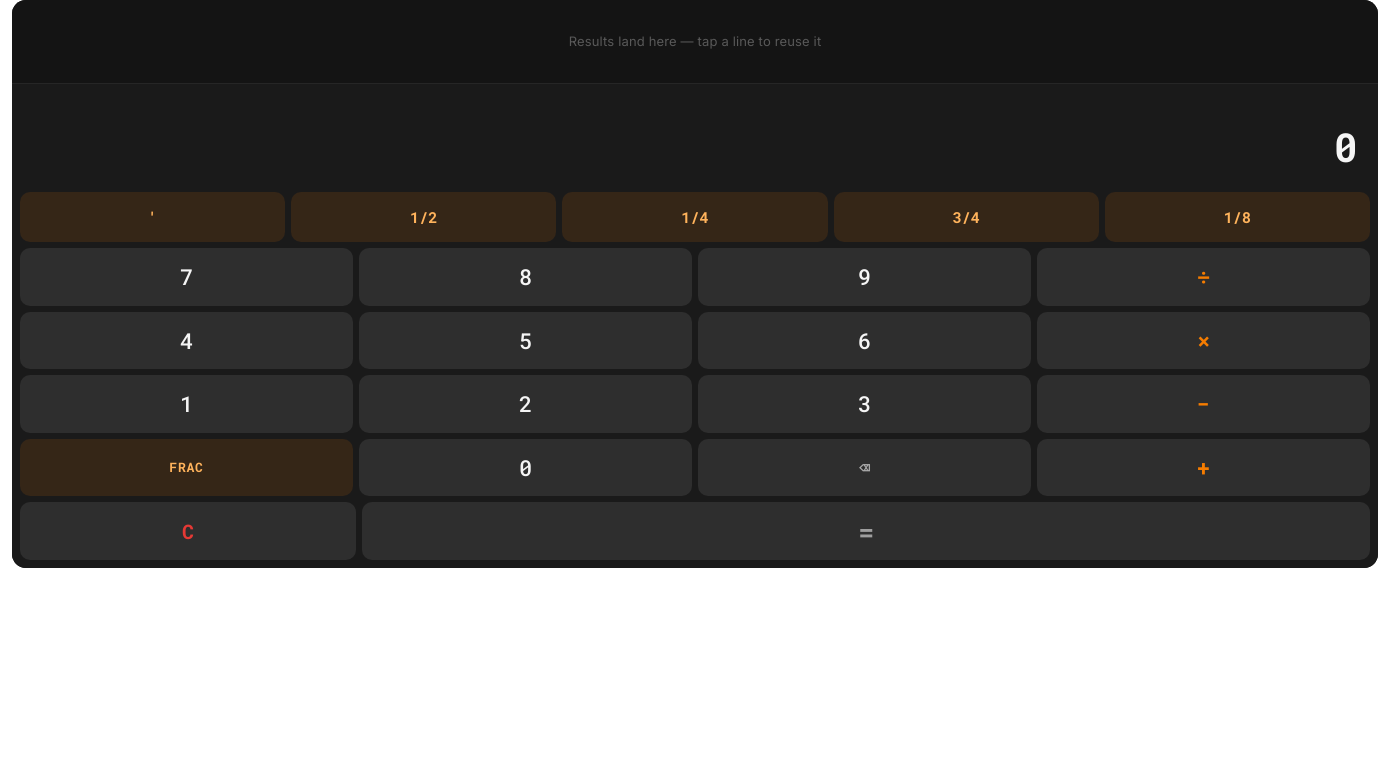
Test: TapeCalc UI › clear button resets everything
Click the button "5": (526, 340) [359, 312, 692, 369]
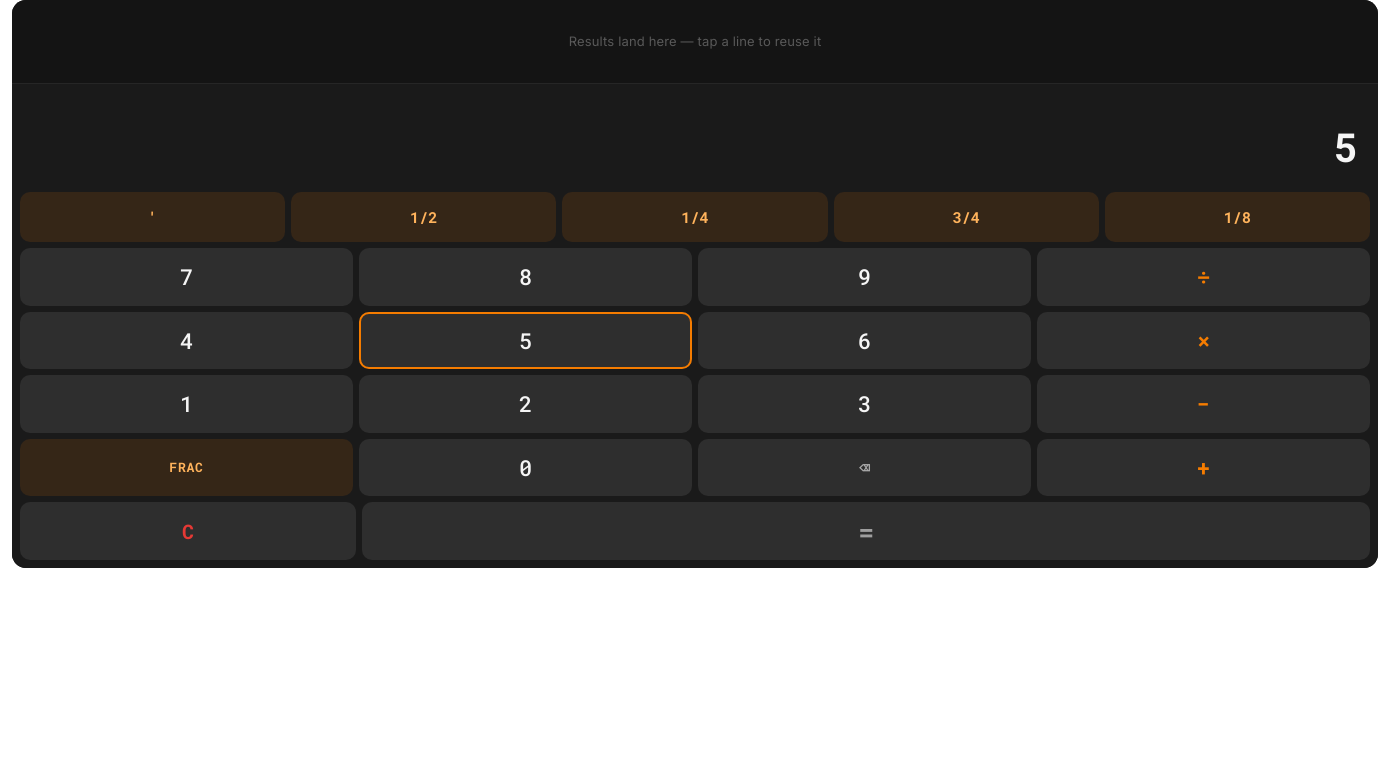
Click the button named "add": (1204, 468) [1037, 439, 1370, 496]
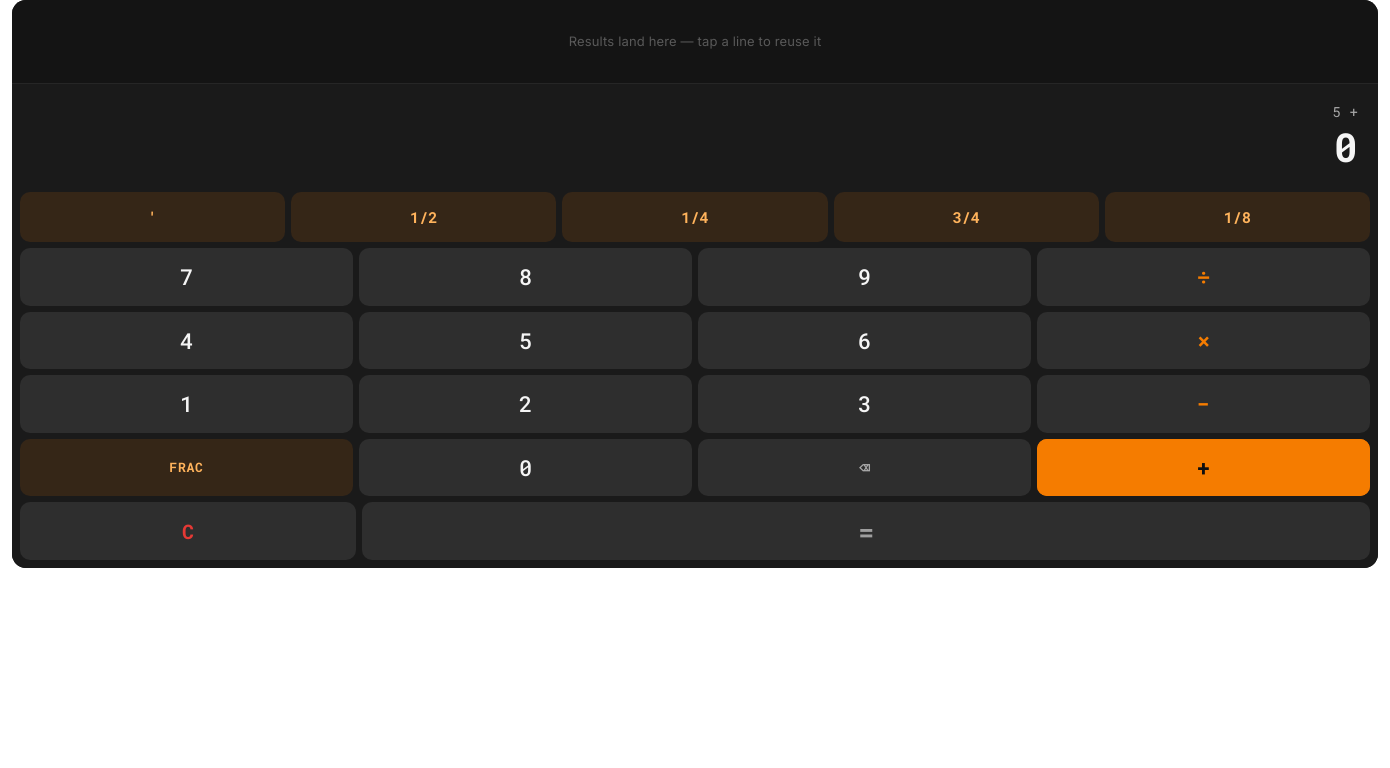
Click the button "3": (864, 404) [698, 375, 1031, 433]
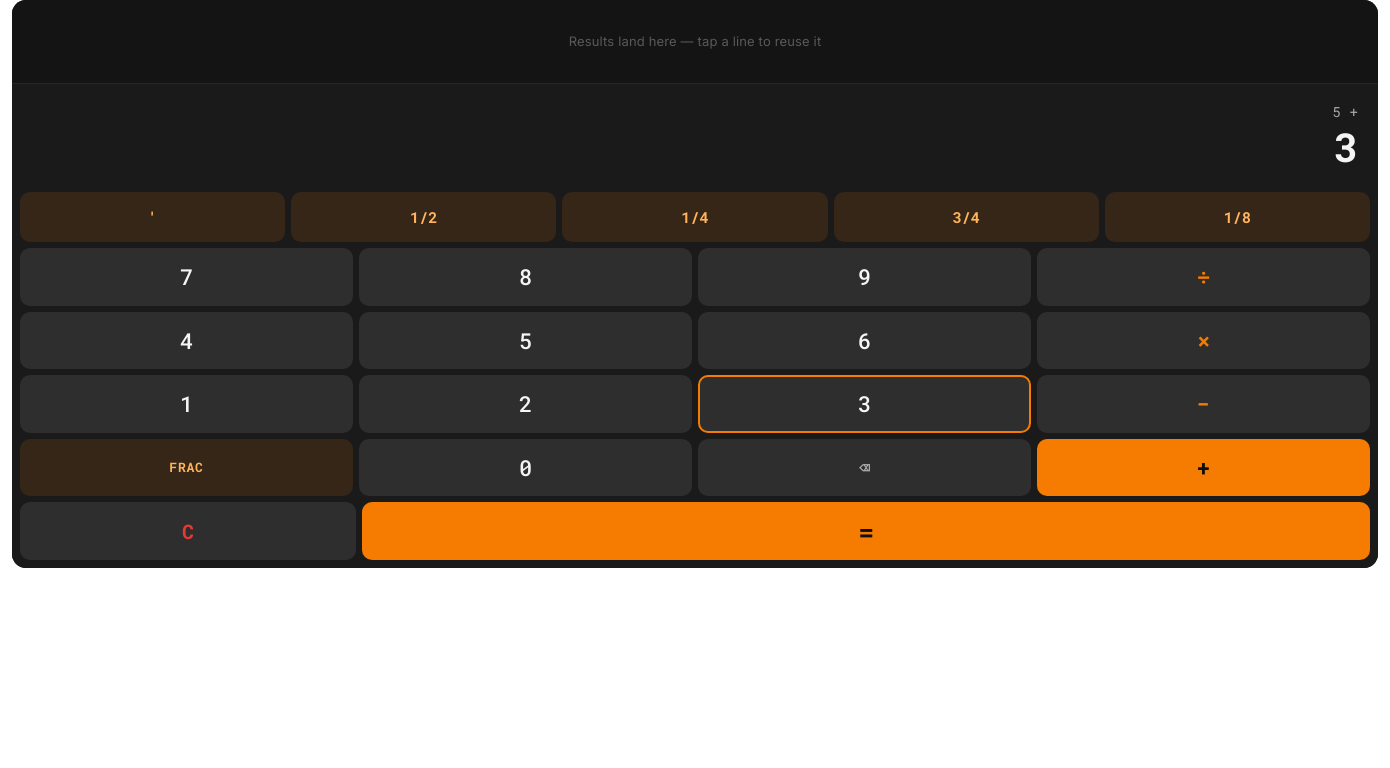
Click the button named "calculate": (866, 531) [362, 502, 1370, 560]
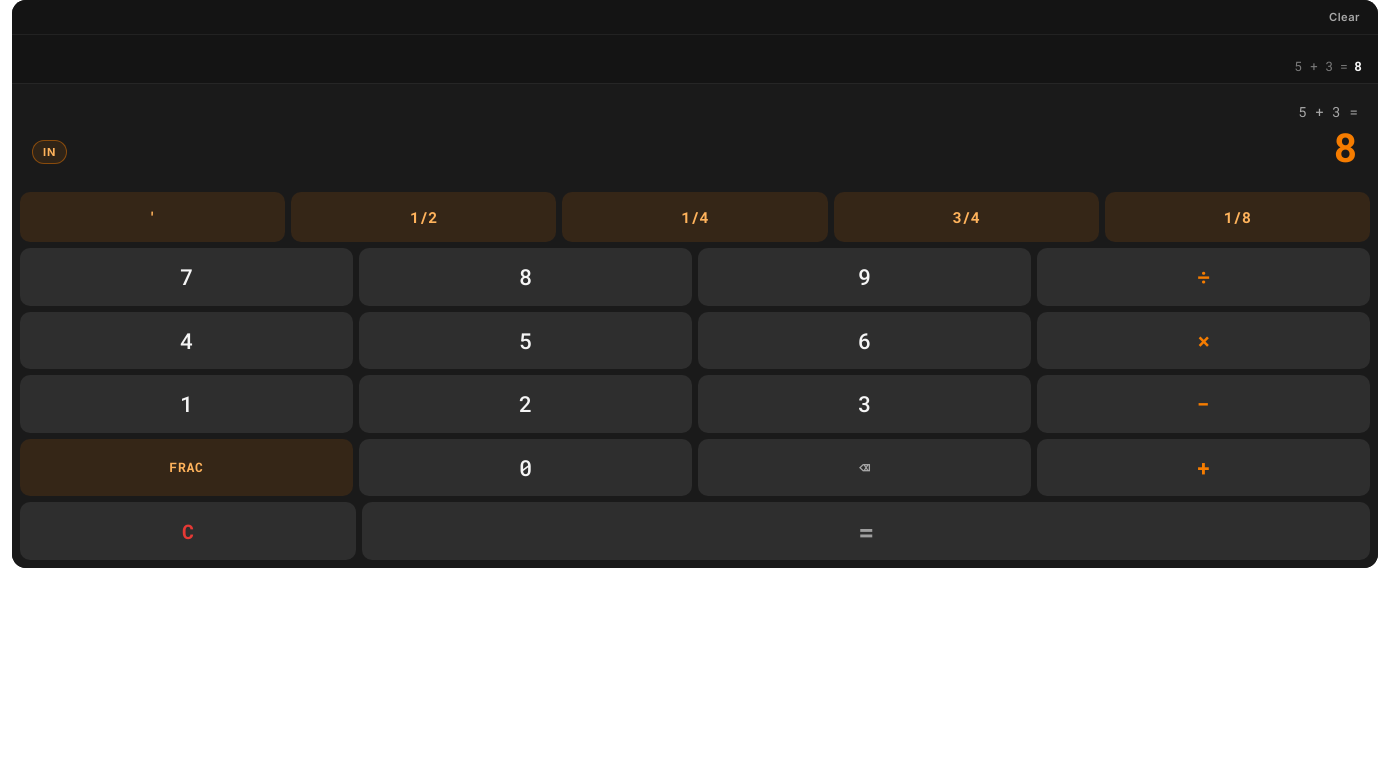
Expected: the button named "result" reads "8", [1334, 120, 1358, 173]
Click the button named "clear": (188, 531) [20, 502, 356, 560]
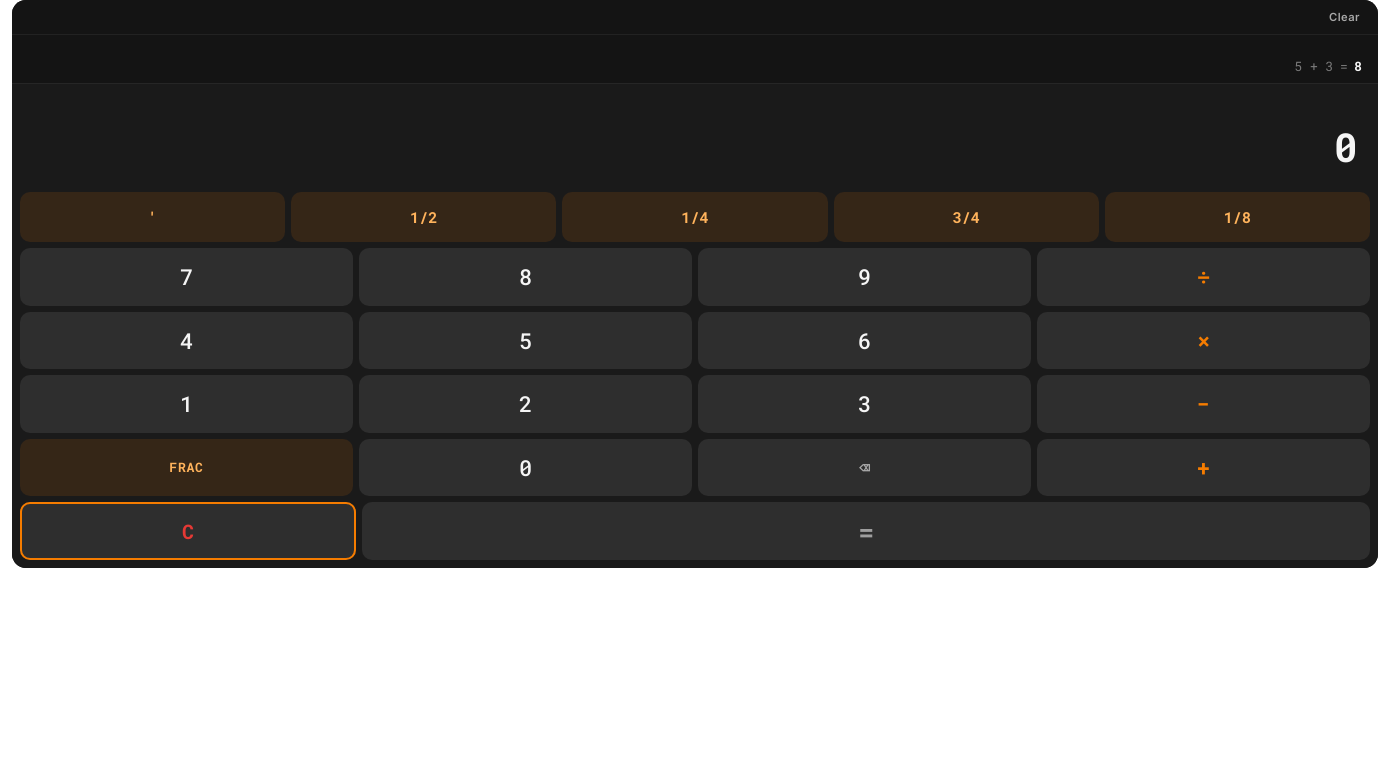
Expected: the text with test id "display-value" reads "0", [1334, 120, 1358, 173]
